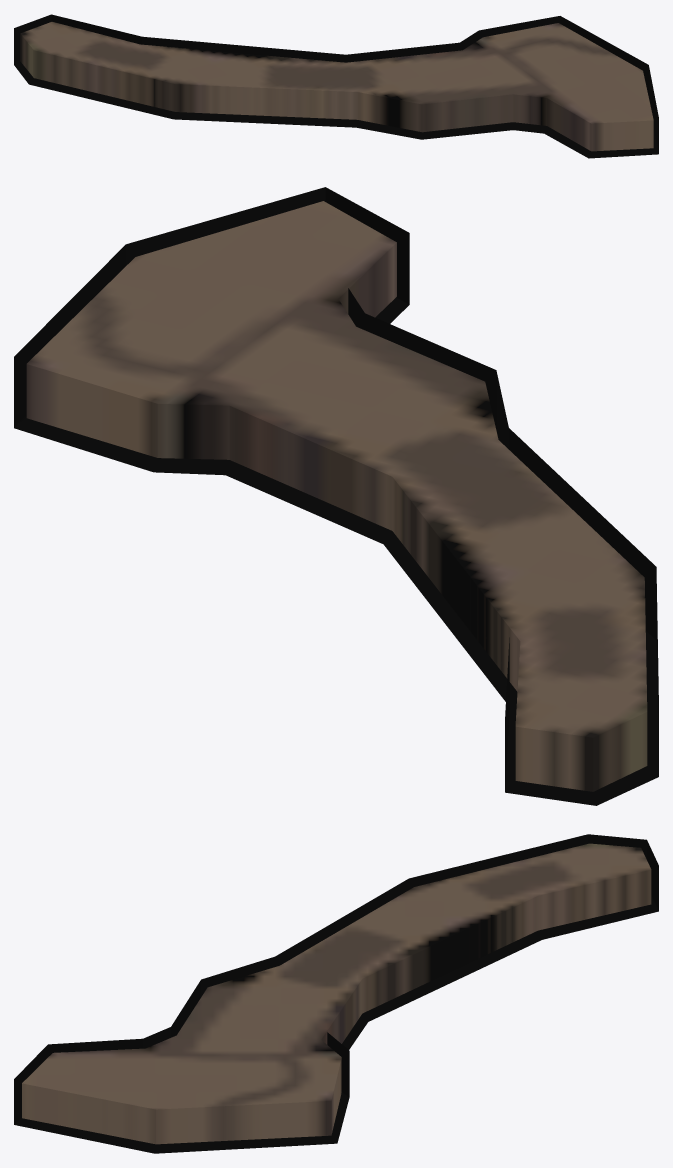
Rendered from Item_Apparel_Bandolier_Things_Pawn_Humanlike_Apparel_HeavyBandolier_HeavyBandolier_Male.glb.
The picture shows the model from 3 angles, top to bottom: view 1: azimuth 30°, elevation 25°; view 2: azimuth 150°, elevation 25°; view 3: azimuth 270°, elevation 25°; orthographic projection. The views are drawn at different scales.
Visible parts, largest first — view 1: Body, Outline; view 2: Body, Outline; view 3: Body, Outline.
Part boxes in pixels (<box>): Body: <box>20,22,653,151</box>; Outline: <box>14,14,658,158</box>; Body: <box>26,201,647,791</box>; Outline: <box>14,187,658,805</box>; Body: <box>22,843,651,1144</box>; Outline: <box>14,834,658,1153</box>.
Size of the model in its own units: 0.4884 by 0.0415 by 0.4882.
2 materials, 1 textured.
